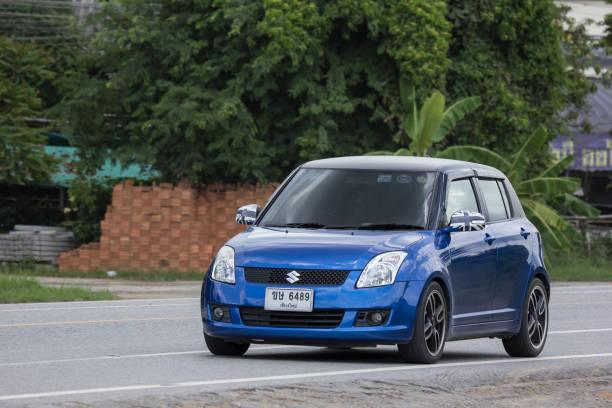suzuki: (278, 267, 308, 290)
